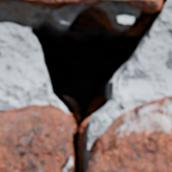brick: (0, 0, 161, 10)
broken_brick: (89, 95, 171, 171), (0, 103, 70, 171)
crack: (0, 0, 169, 171)
